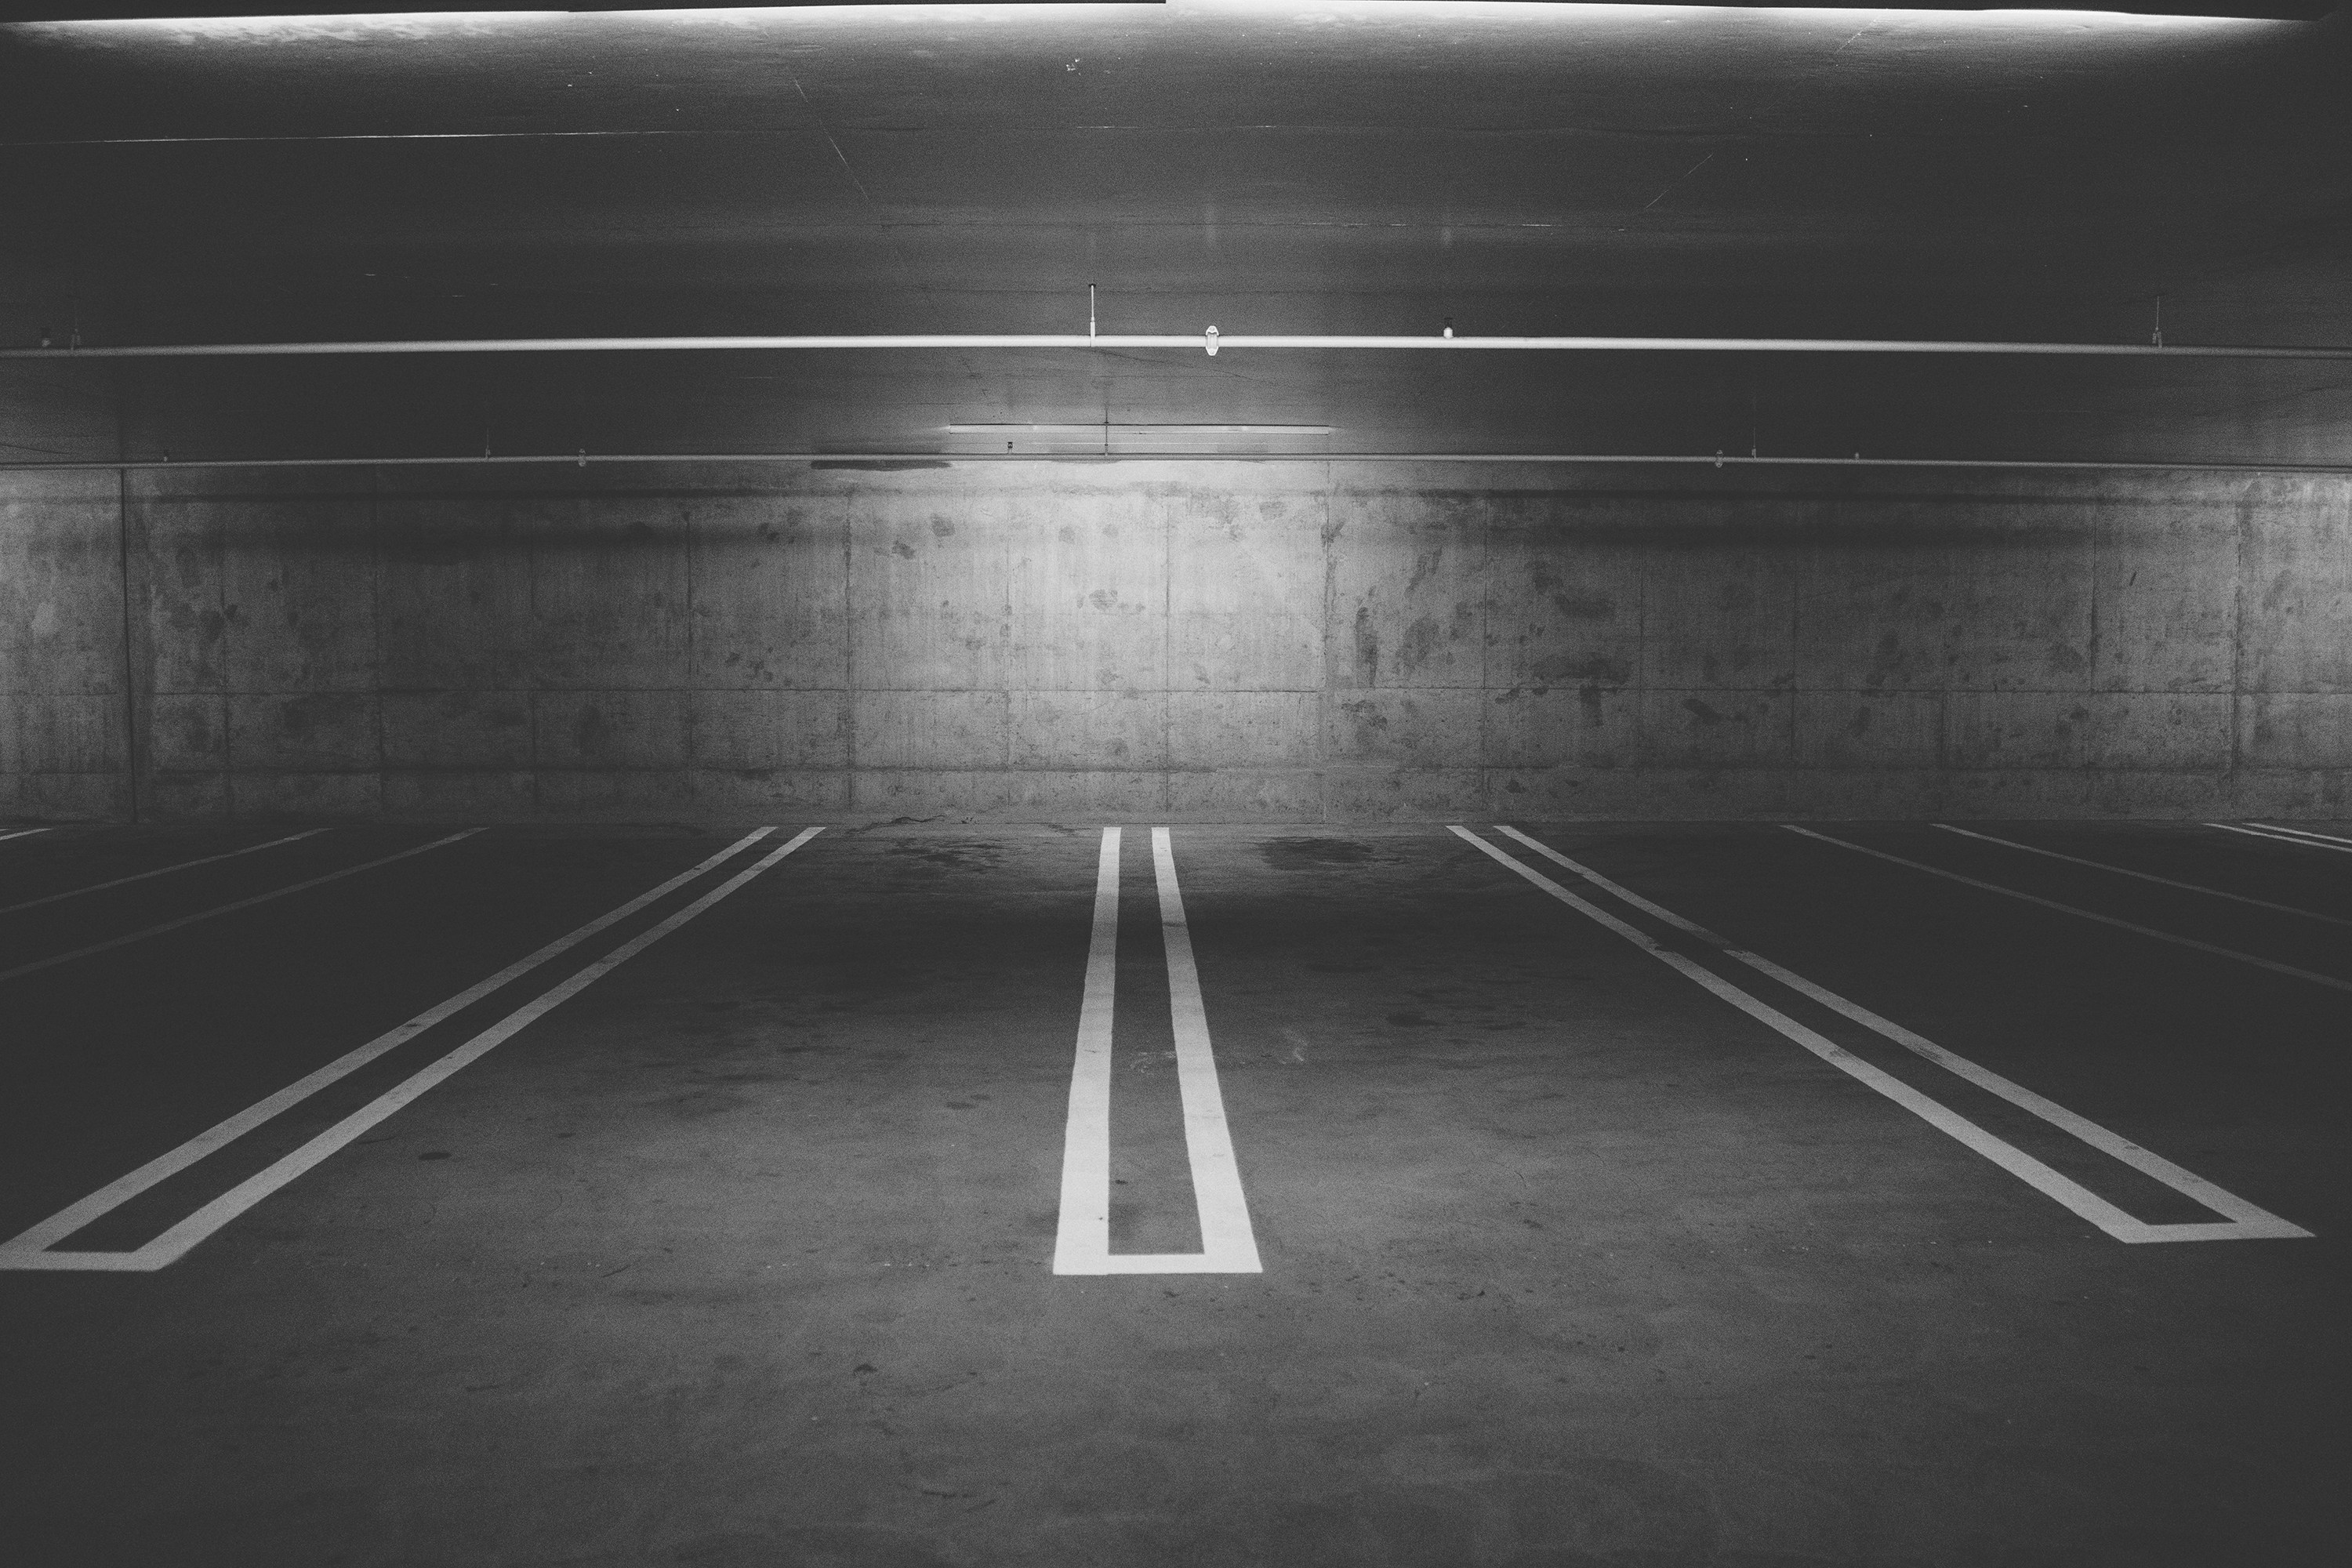empyt_space: (1073, 761, 2348, 1404), (75, 808, 1316, 1333), (1864, 779, 2352, 1003), (12, 814, 448, 970)
